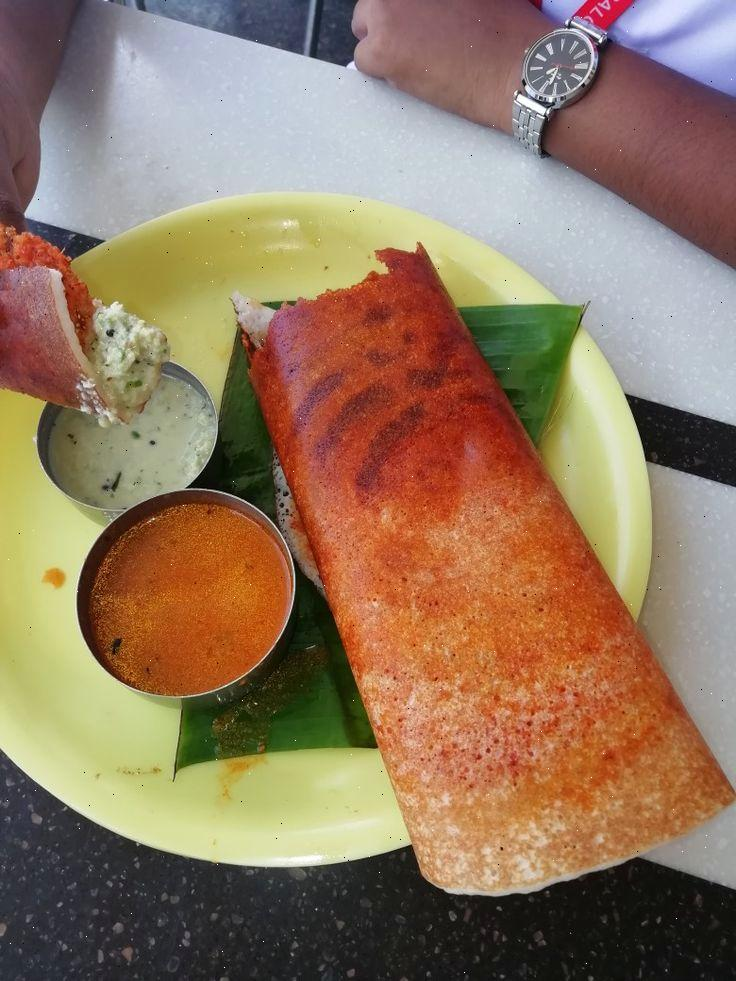dosa: (236, 262, 729, 915)
